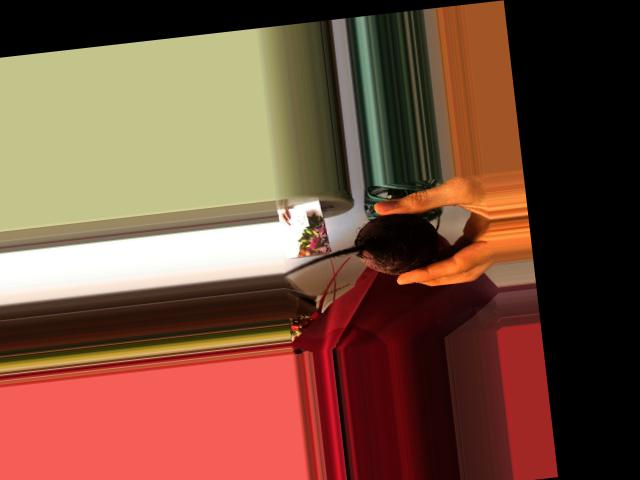beet: (276, 209, 444, 287)
